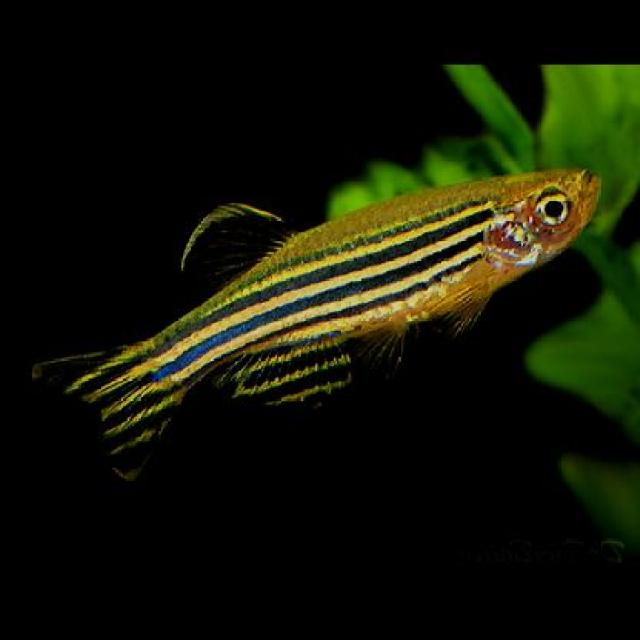ZebraFish: (32, 152, 593, 473)
